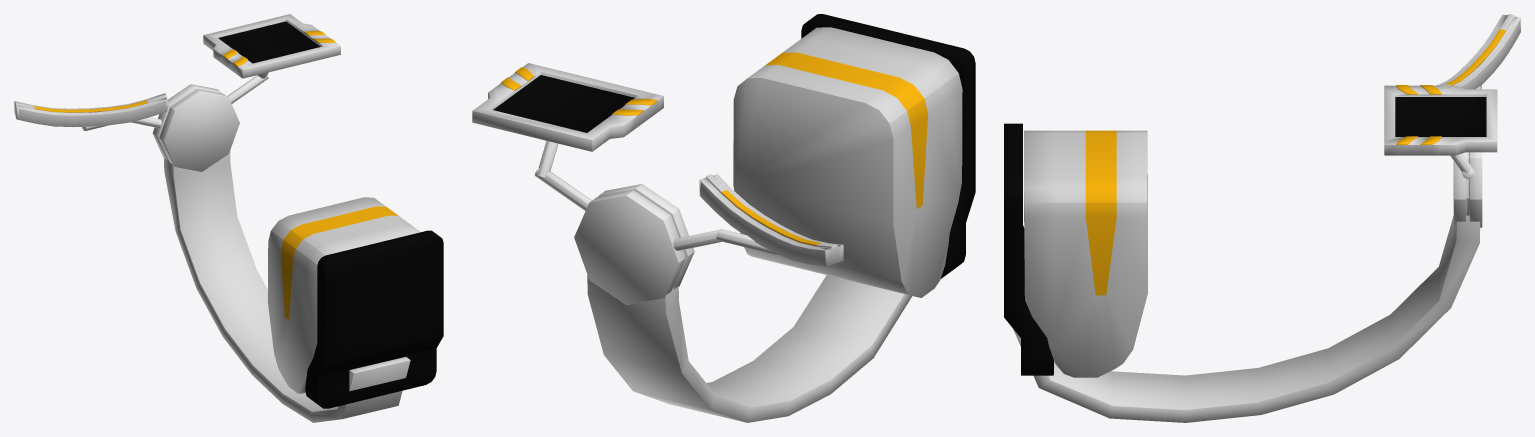
The model's file is СНХ.fbx.
3 renders of one model, left to right at view 1: azimuth 30°, elevation 25°; view 2: azimuth 150°, elevation 25°; view 3: azimuth 270°, elevation 25°, orthographic. The views are drawn at different scales.
Parts seen in each view (by area): view 1: Cube.001; view 2: Cube.001; view 3: Cube.001.
Part boxes in pixels (<box>): Cube.001: <box>14,14,443,422</box>; Cube.001: <box>472,14,975,422</box>; Cube.001: <box>1004,14,1520,422</box>.
Size of the model in its own units: 115 by 105 by 150.
